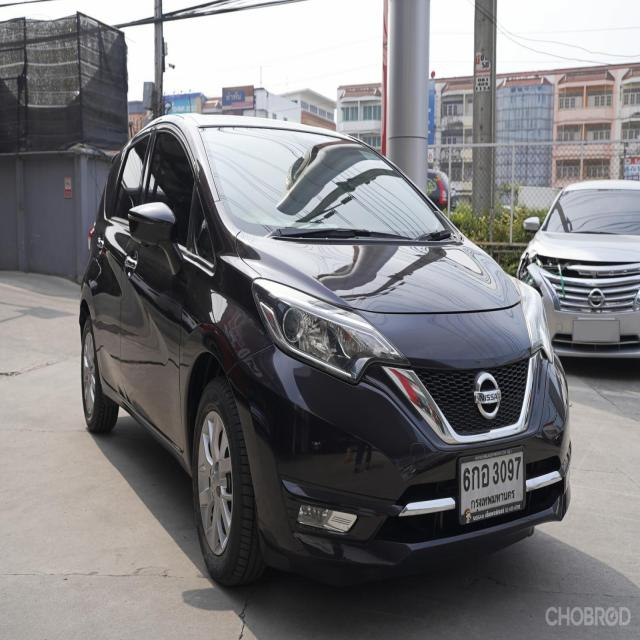license_plate: (456, 446, 530, 535)
